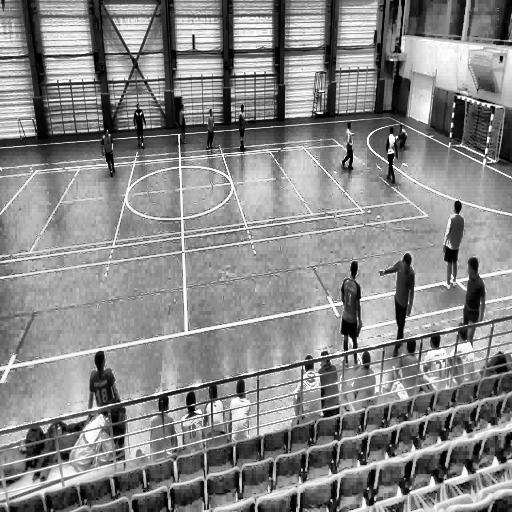ball: (394, 133, 399, 143)
player: (379, 251, 414, 348), (340, 259, 362, 366), (442, 199, 465, 287), (461, 258, 486, 337), (384, 126, 398, 186), (101, 126, 117, 178), (340, 121, 355, 171), (133, 106, 147, 151), (393, 119, 409, 155), (238, 104, 248, 152), (206, 106, 215, 150), (178, 104, 187, 146)
